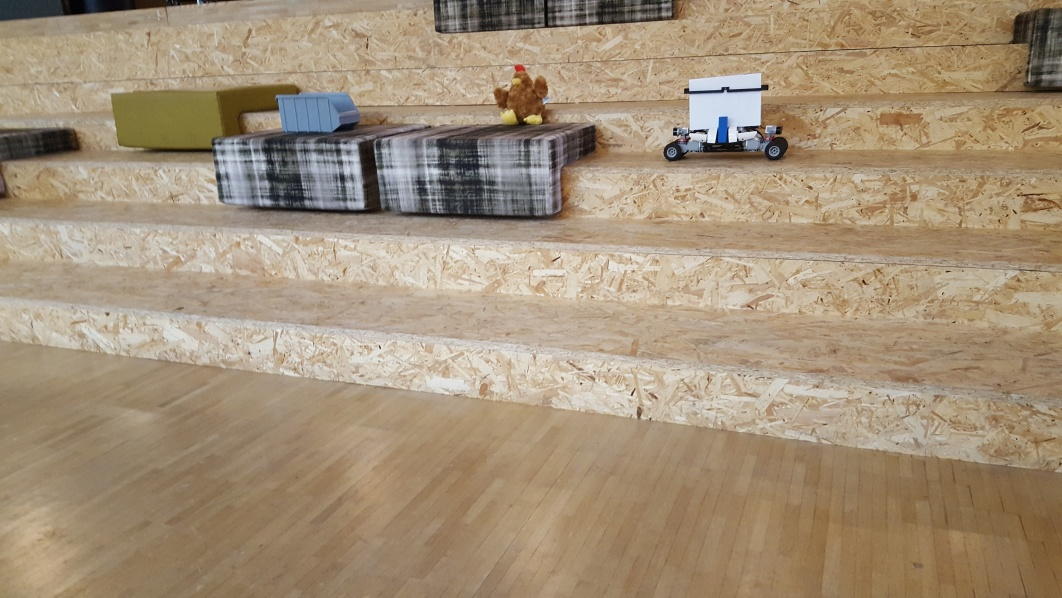beam: (715, 112, 729, 148)
chicken: (490, 63, 554, 123)
tray: (273, 91, 360, 134)
